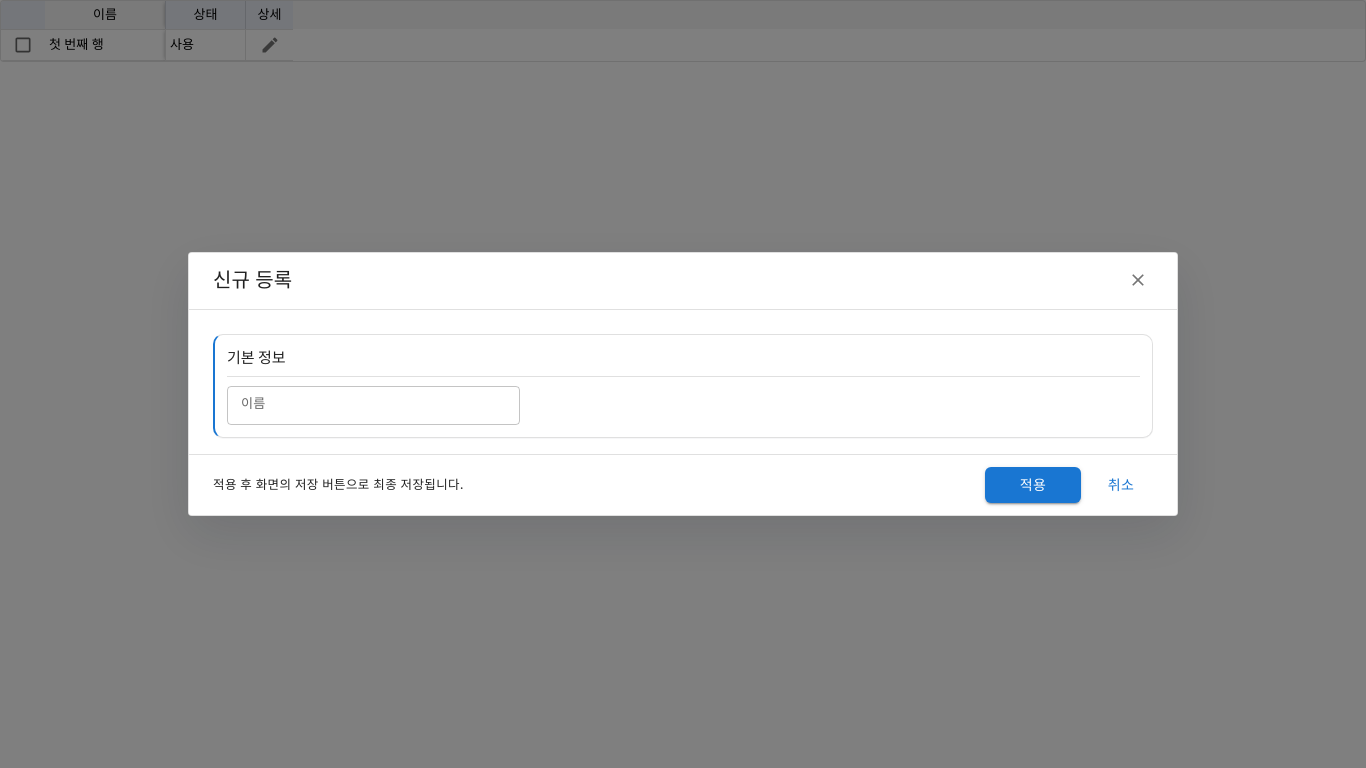
Test: F1-Grid row form integration › adds a valid create draft only when apply is clicked
Type "신규 행" into the field labelled "이름" at x=373, y=406, box [227,386,520,425]
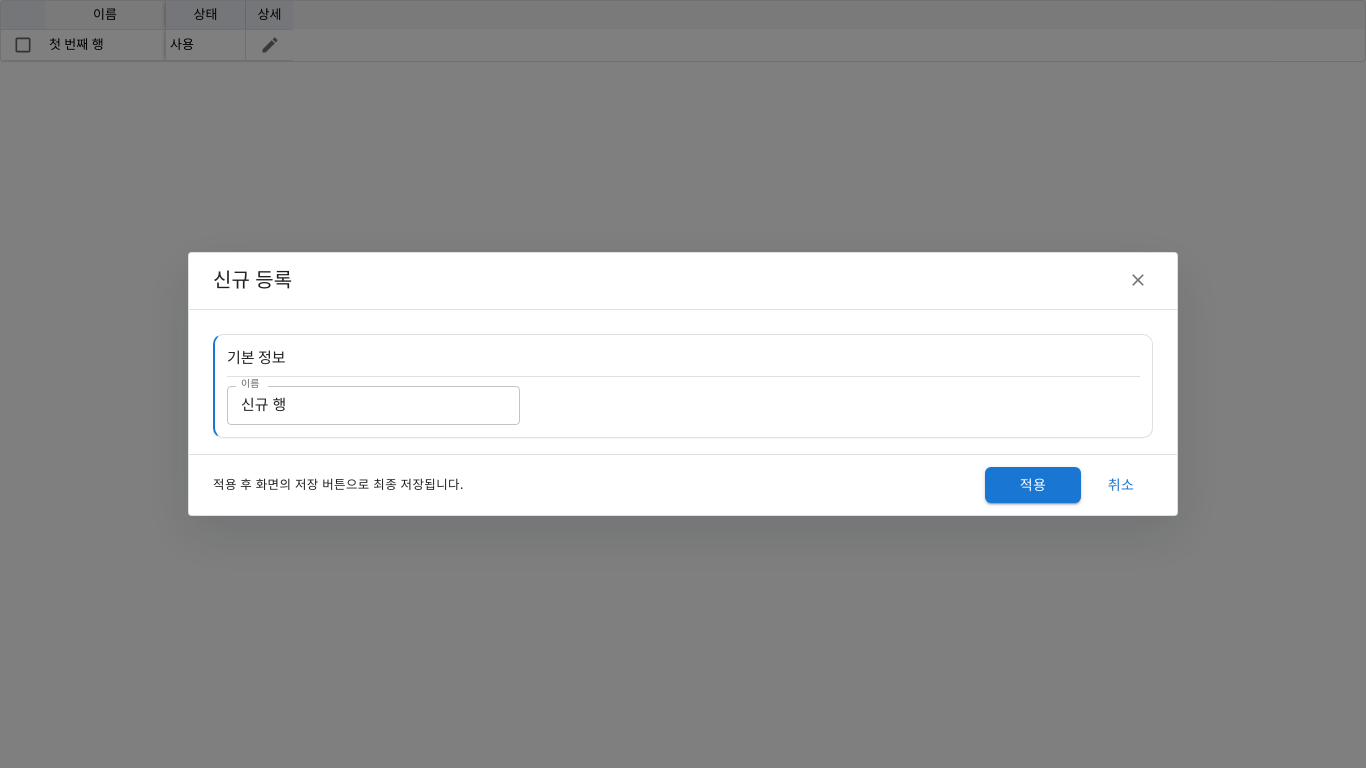
Click the button "적용" at x=1033, y=485, box [985,467,1081,503]
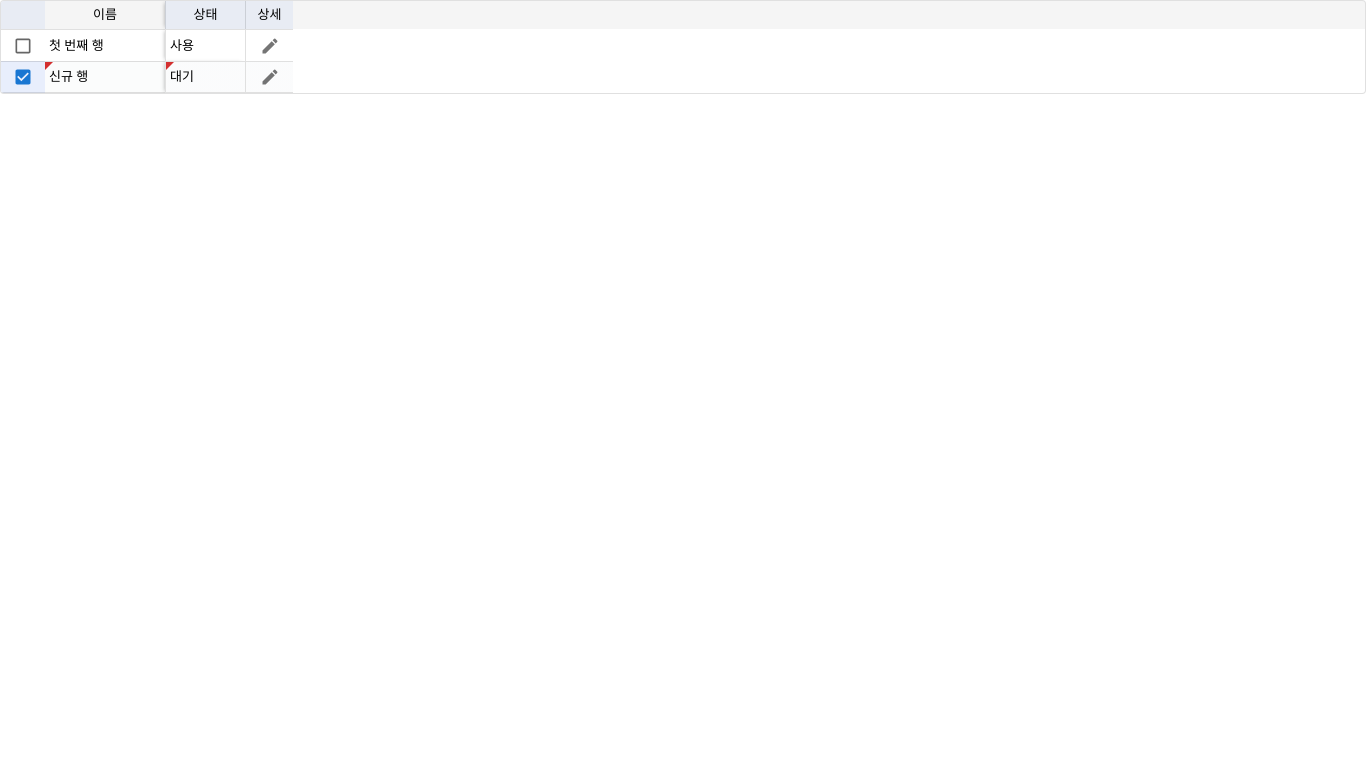
Check: the dialog is gone
